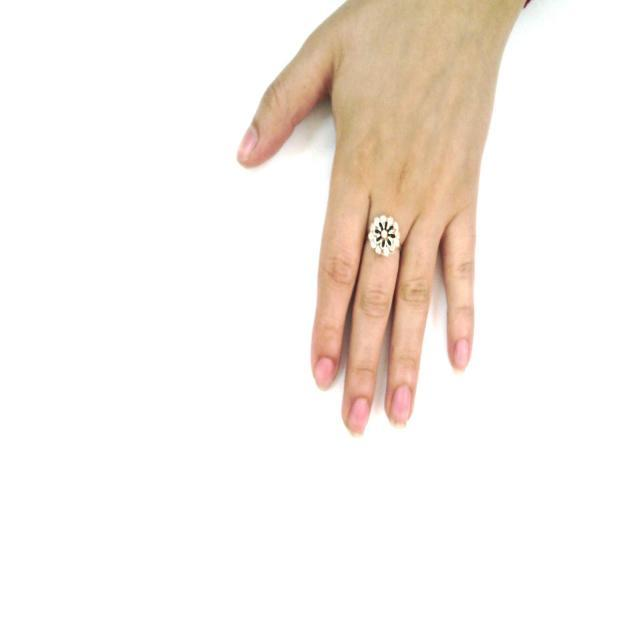Fingernail: (392, 386, 411, 426), (349, 399, 369, 436), (237, 128, 257, 162), (316, 358, 334, 389), (454, 340, 469, 371)
